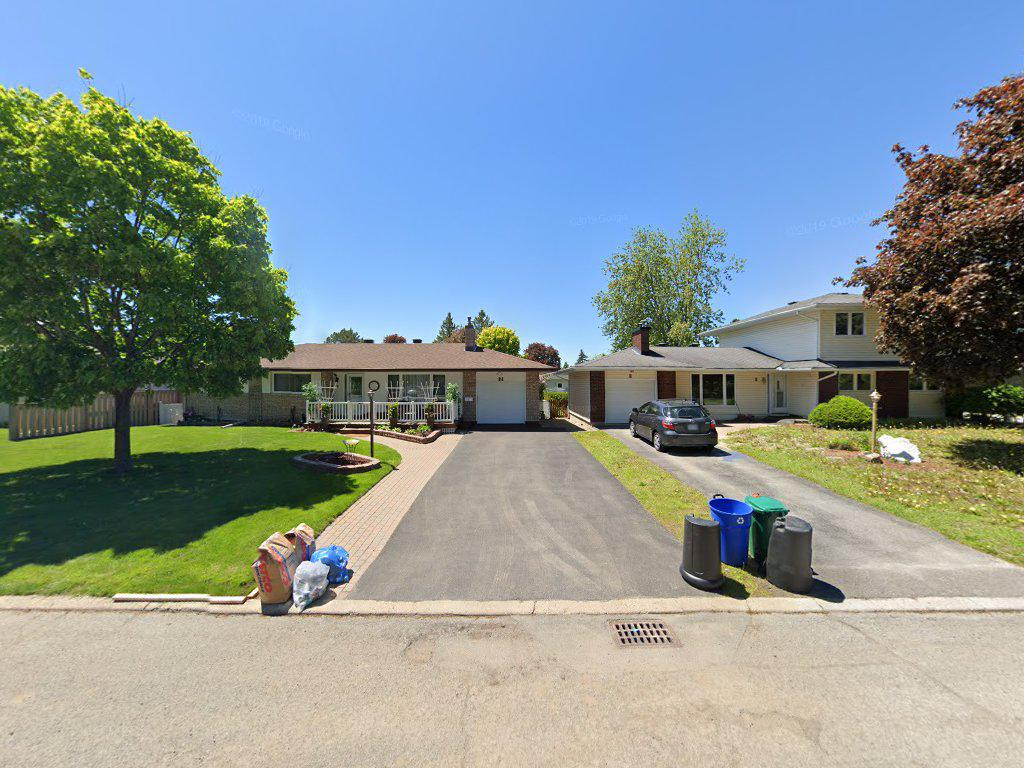trunk: (105, 389, 137, 481)
